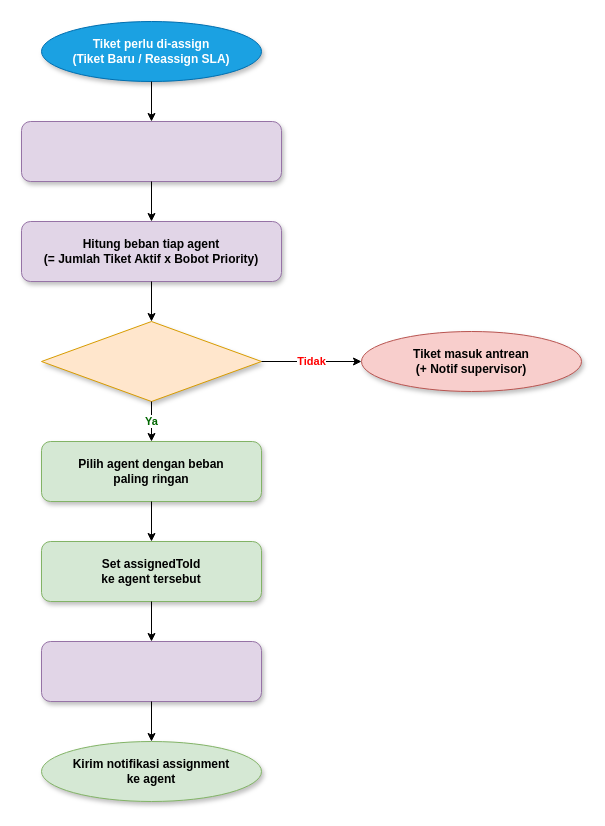
This 605x826 diagram has some shape labels left out. The shapes that lost their labels are listed below. From the top down, each one's centre as x and y in pixels, then its label:
At pixel 152 152: "Ambil daftar agent memenuhi syarat (Role cocok, Site cocok, Aktif)".
At pixel 152 362: "Ada agent di bawah kapasitas?".
At pixel 152 672: "Update AgentDailyWorkload (Tambah bobot tiket)".
